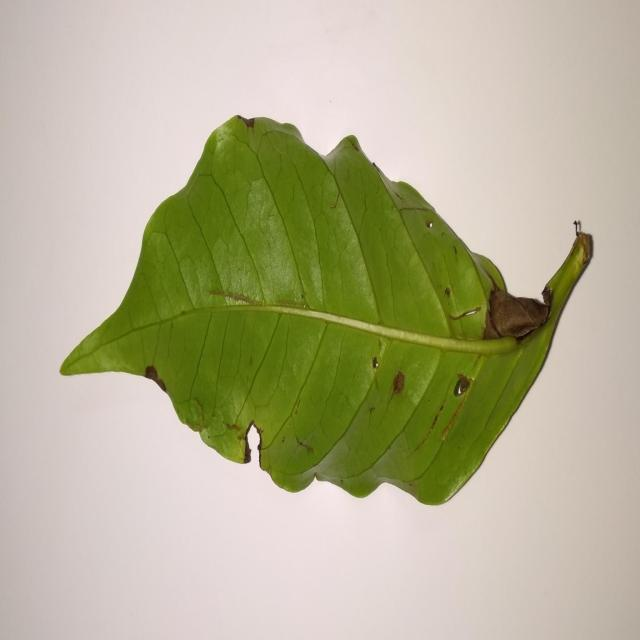Enfermedad-Antracnosis: (58, 116, 595, 509)
